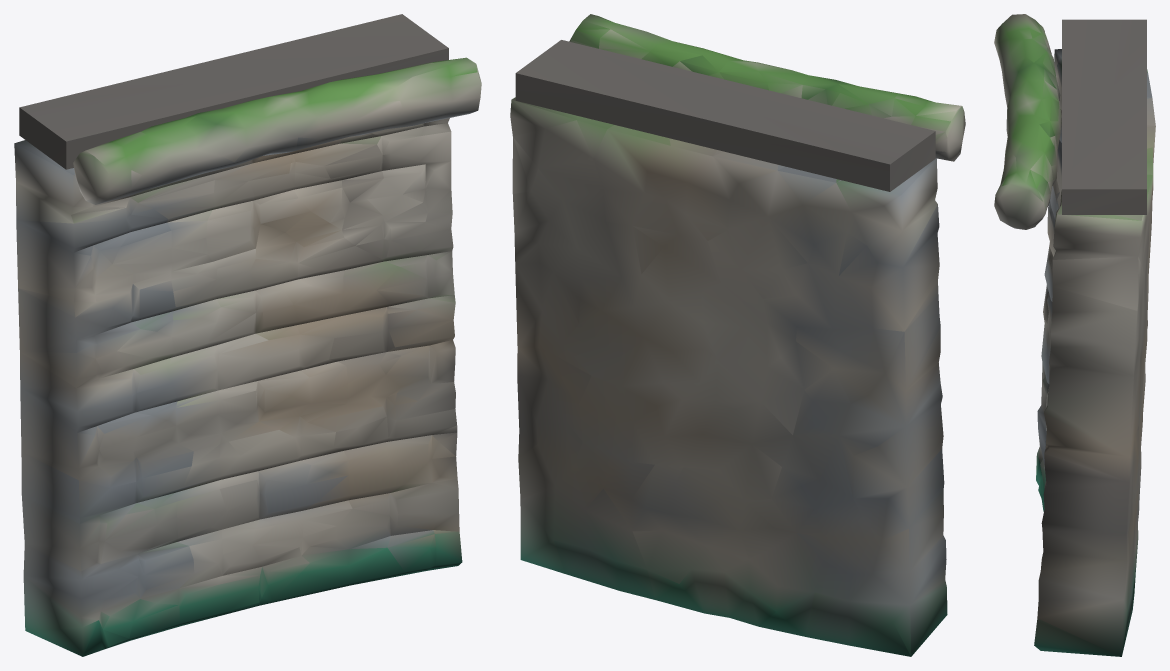
The model's file is grotto_basin_wall_lod2.glb.
3 views of the same model, side by side, from view 1: azimuth 30°, elevation 25°; view 2: azimuth 150°, elevation 25°; view 3: azimuth 270°, elevation 25° (orthographic). The views are drawn at different scales.
Visible parts, largest first — view 1: grotto_basin_wall.001; view 2: grotto_basin_wall.001; view 3: grotto_basin_wall.001.
Boxes of the visible parts, bbox=[...] form: grotto_basin_wall.001: bbox=[14, 14, 481, 656]; grotto_basin_wall.001: bbox=[510, 14, 965, 656]; grotto_basin_wall.001: bbox=[994, 14, 1155, 656].
Bounding box in the file's own units: 29.69 × 36.88 × 11.43.
